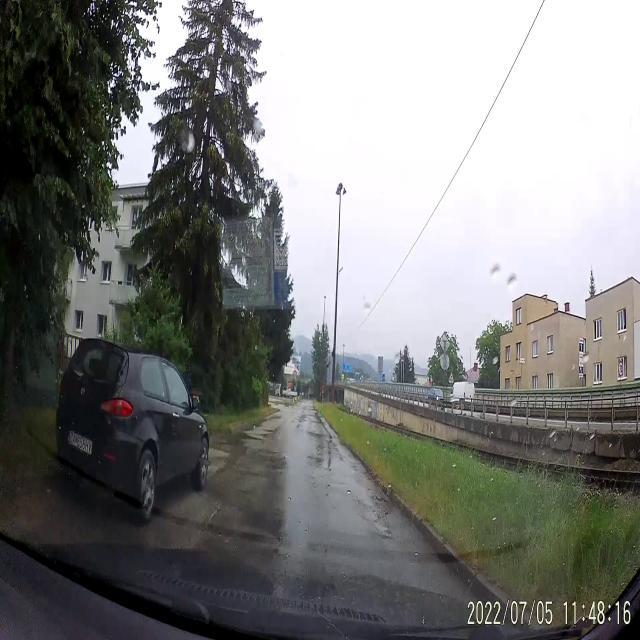Pothole: (361, 488, 394, 540)
